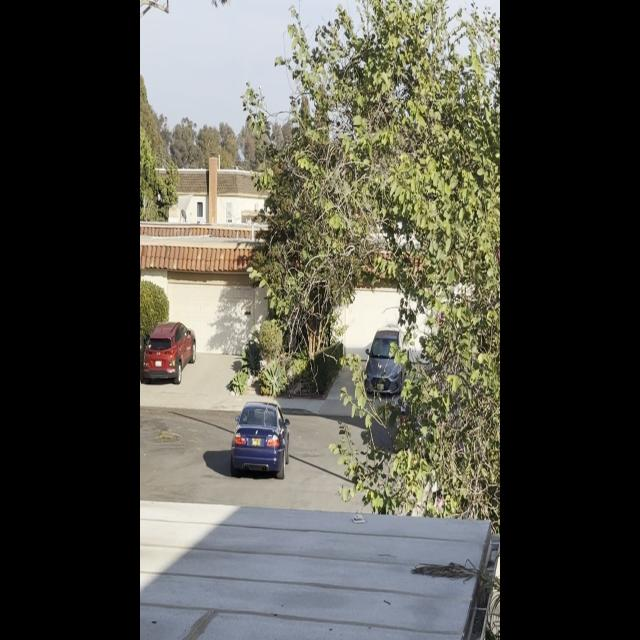Carbeetle: (223, 390, 294, 480)
Civilian: (140, 318, 199, 383), (363, 320, 409, 403)
